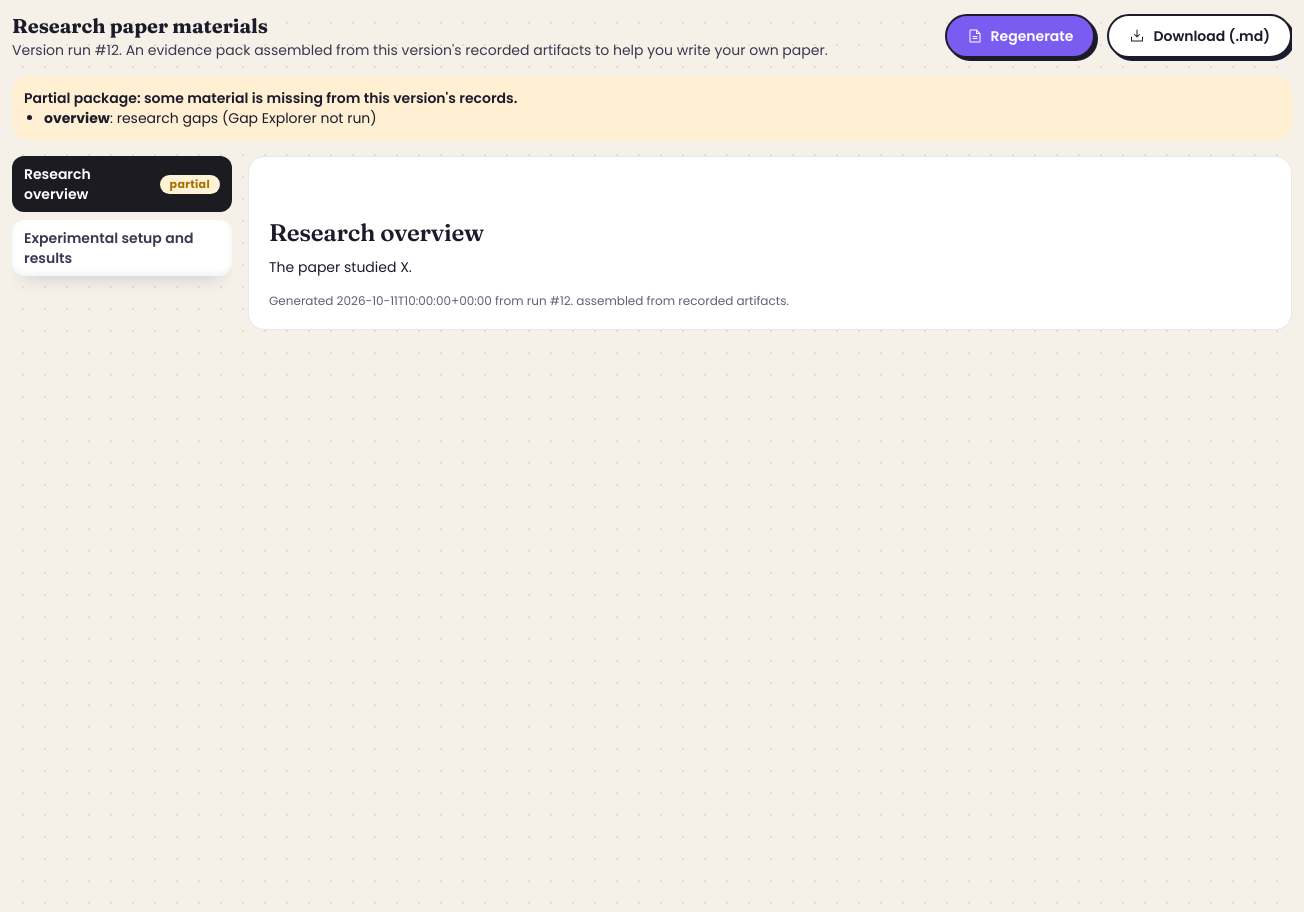
Test case: PaperWorkspace › renders sections, shows mermaid source, the version and what is missing in a partial package
Expected: the text "The paper studied X." is shown, [269,257,412,277]
Expected: the text "Partial package" is shown, [24,88,517,108]
Click the button "Experimental setup and results".
click(122, 248)  # box [12,220,232,276]
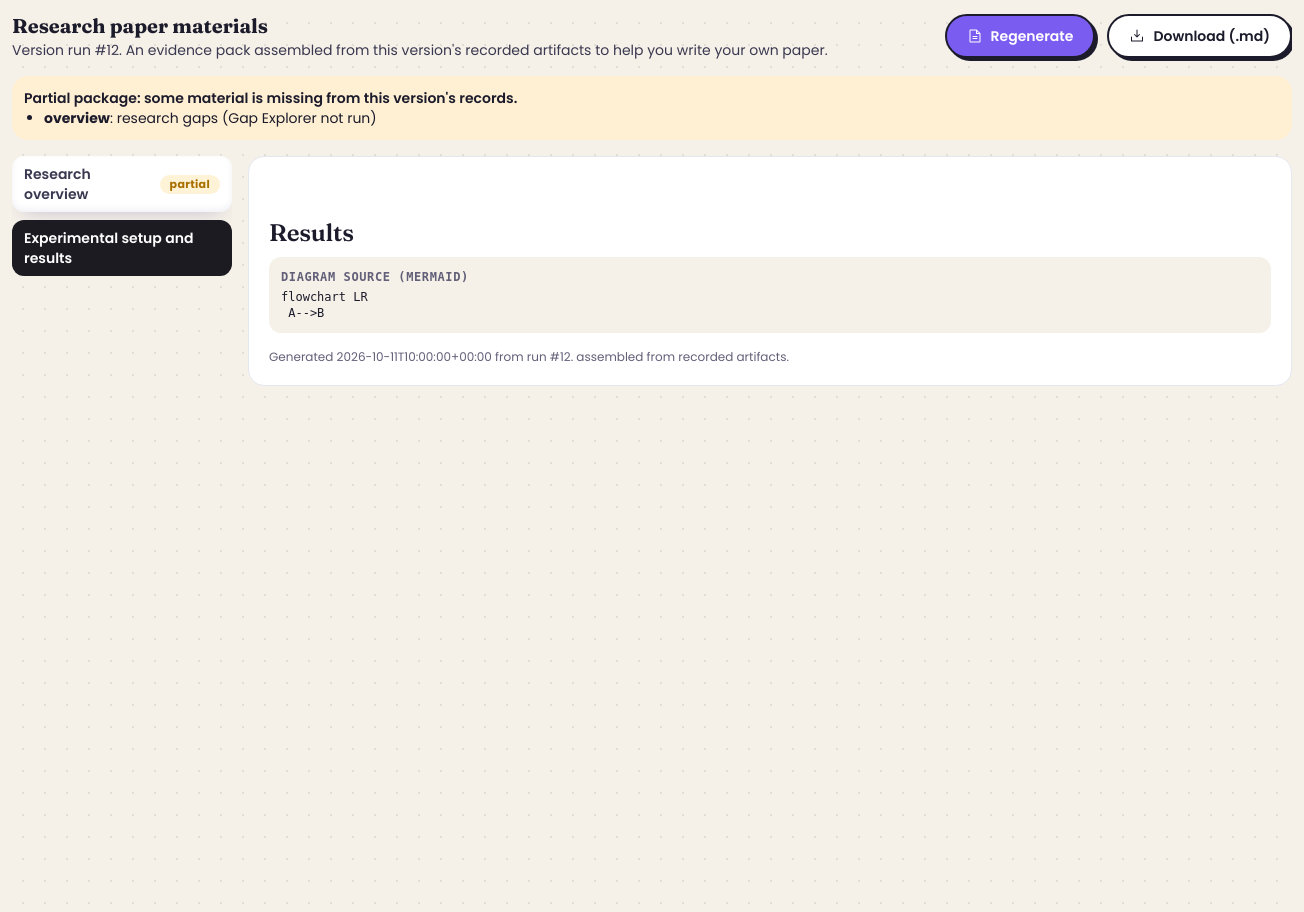
Expected: the text "Diagram source (Mermaid)" is shown, [281,270,469,284]
